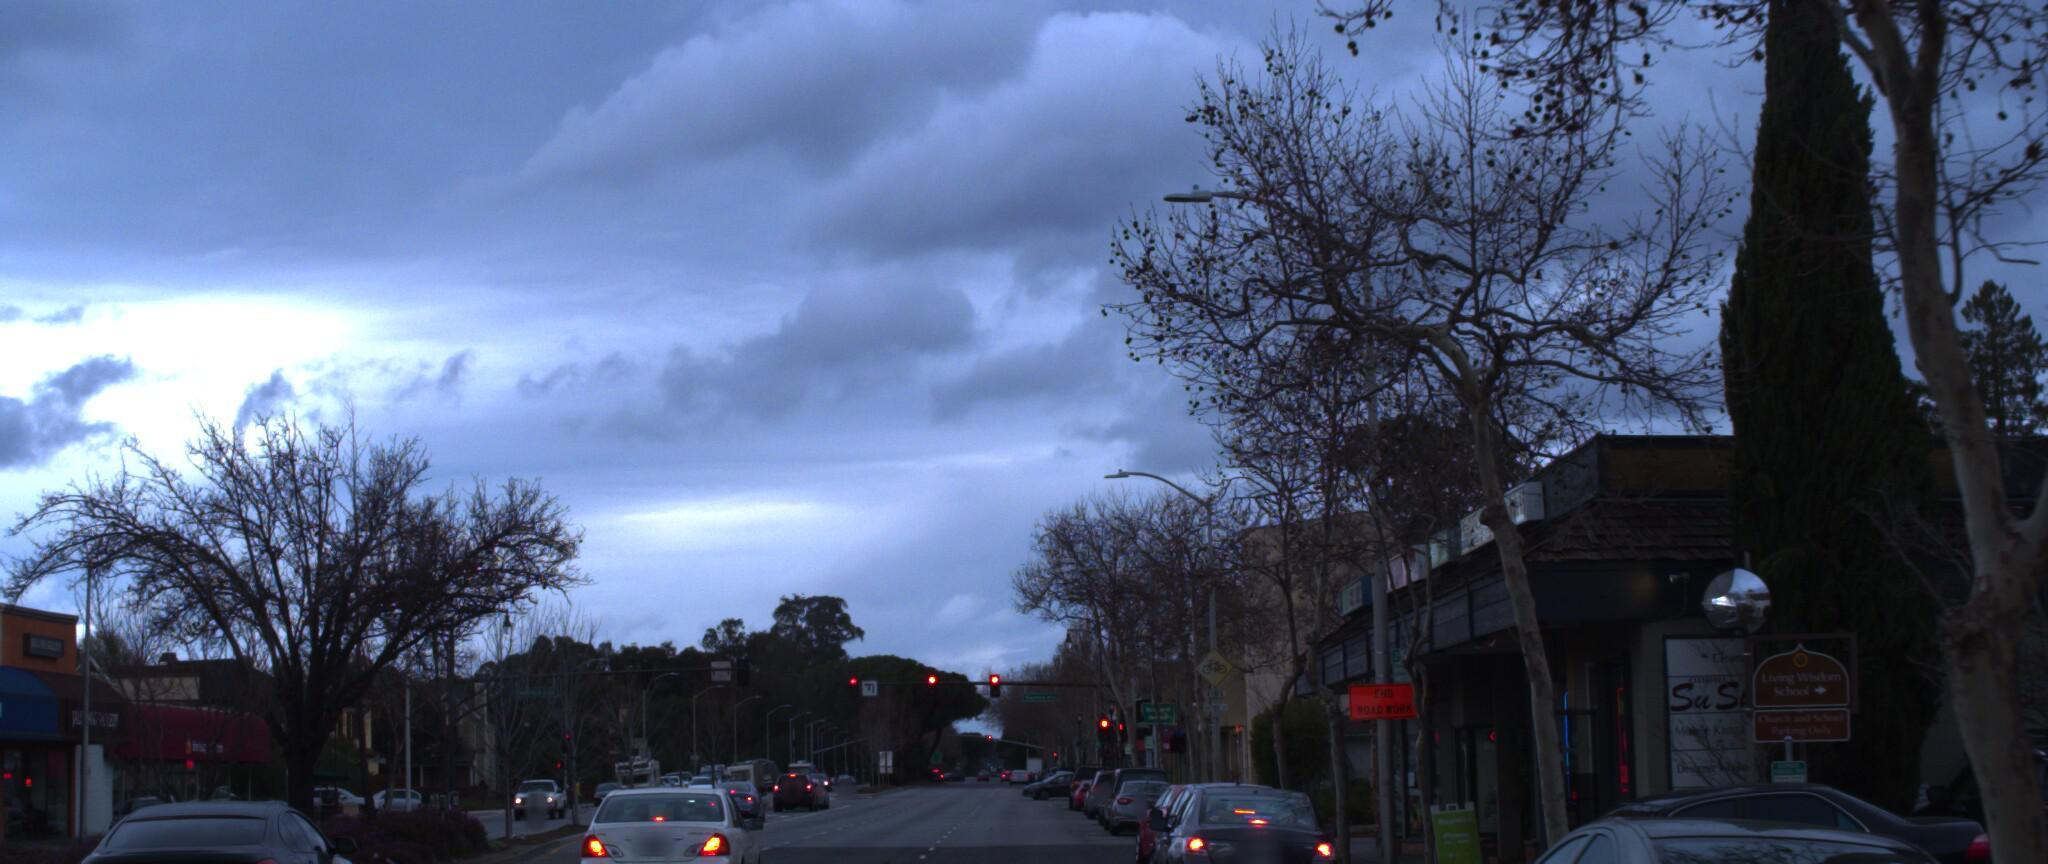car: (1288, 770, 1962, 864), (1381, 801, 2048, 864), (30, 774, 385, 864), (1869, 720, 2048, 864), (546, 756, 773, 864), (1125, 767, 1351, 864)
